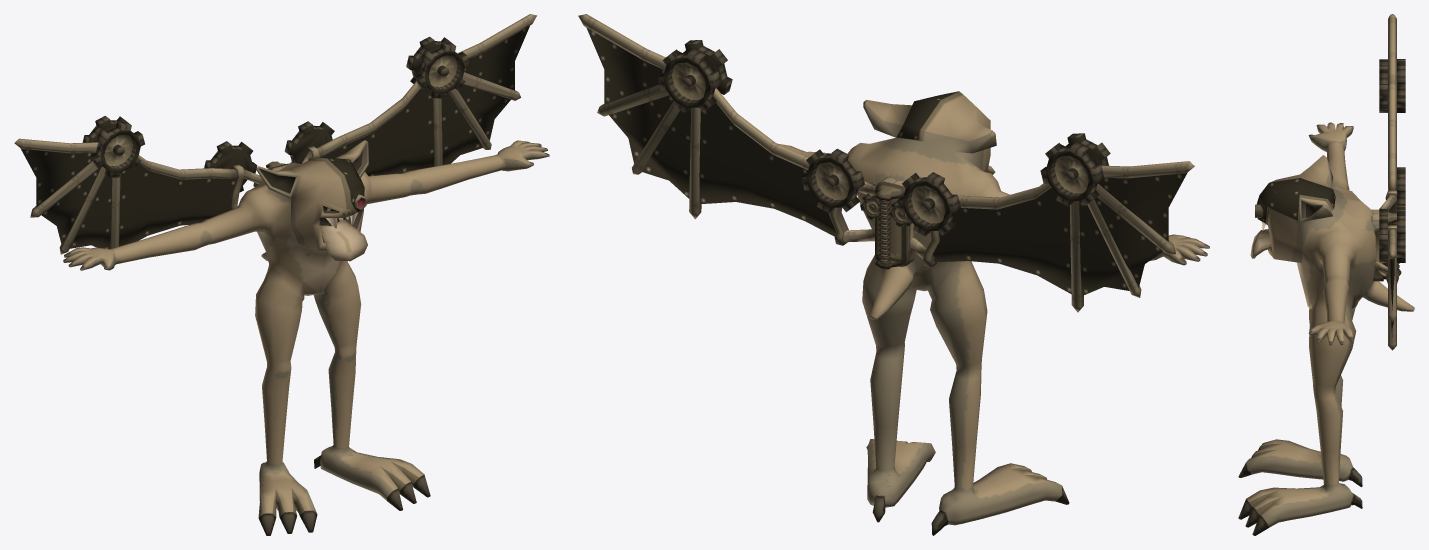
Rendered from Demon.fbx.
3 renders of one model, left to right at view 1: azimuth 30°, elevation 25°; view 2: azimuth 150°, elevation 25°; view 3: azimuth 270°, elevation 25°, orthographic. The views are drawn at different scales.
Visible parts, largest first — view 1: Body, WingsInside, Wings, Engranaje.004, Engranaje.001, Engranaje.005, Engranaje.006, Engranaje.003; view 2: Body, WingsInside, Wings, Engranaje.002, Engranaje.003, Engranaje.006, Engranaje.005, Engranaje.001, EngranePerpenticular; view 3: Body, Wings, Engranaje.001, Engranaje.002, Engranaje.003, Engranaje.004, Engranaje.006.
Part boxes in pixels (left/top/right/bottom): Body: left=63, top=140, right=549, bottom=535; WingsInside: left=20, top=26, right=529, bottom=249; Wings: left=14, top=14, right=536, bottom=265; Engranaje.004: left=91, top=122, right=144, bottom=177; Engranaje.001: left=415, top=43, right=469, bottom=98; Engranaje.005: left=284, top=121, right=334, bottom=163; Engranaje.006: left=204, top=141, right=257, bottom=192; Engranaje.003: left=406, top=36, right=455, bottom=83; Body: left=779, top=91, right=1209, bottom=535; WingsInside: left=586, top=27, right=1187, bottom=295; Wings: left=578, top=14, right=1194, bottom=312; Engranaje.002: left=1040, top=142, right=1104, bottom=206; Engranaje.003: left=658, top=49, right=721, bottom=112; Engranaje.006: left=897, top=172, right=960, bottom=236; Engranaje.005: left=801, top=148, right=864, bottom=212; Engranaje.001: left=678, top=40, right=732, bottom=94; EngranePerpenticular: left=878, top=199, right=890, bottom=264; Body: left=1238, top=122, right=1414, bottom=535; Wings: left=1371, top=14, right=1401, bottom=350; Engranaje.001: left=1379, top=209, right=1387, bottom=262; Engranaje.002: left=1397, top=59, right=1405, bottom=112; Engranaje.003: left=1397, top=209, right=1405, bottom=262; Engranaje.004: left=1379, top=59, right=1387, bottom=112; Engranaje.006: left=1397, top=167, right=1405, bottom=204.
Bounding box in the file's own units: 202 × 142 × 62.1.
Materials: 7 (7 with a texture image).
